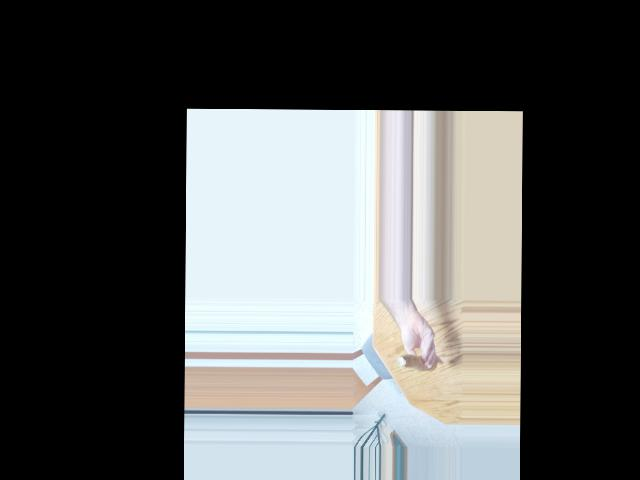sweet_potato: (403, 353, 435, 371)
